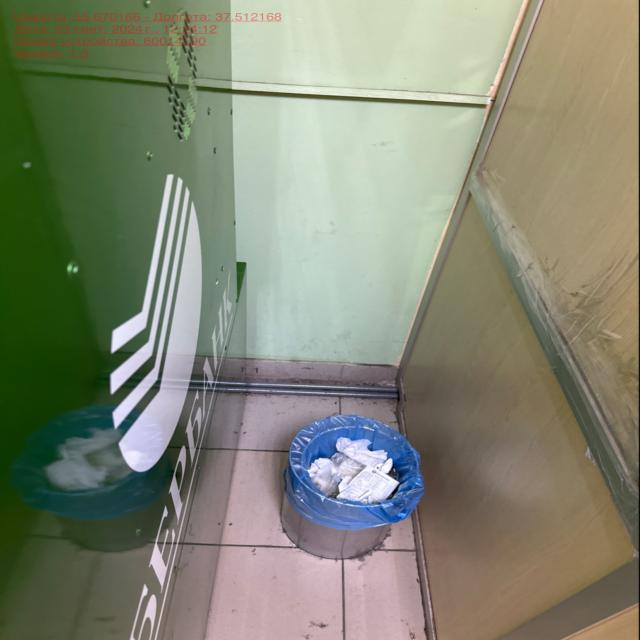bank: (6, 0, 246, 640)
